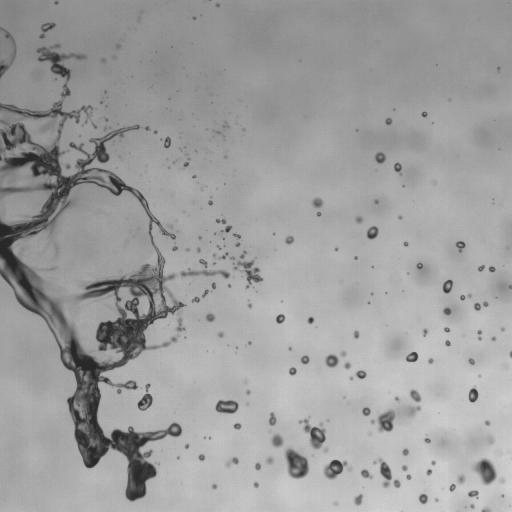droplet: (284, 445, 312, 479), (471, 457, 505, 485), (298, 416, 326, 449), (323, 459, 353, 479), (370, 409, 395, 432), (214, 399, 238, 414), (268, 429, 284, 448), (324, 354, 339, 367), (406, 404, 421, 417), (408, 388, 421, 402), (468, 385, 478, 403), (224, 456, 239, 468), (366, 225, 378, 239), (442, 279, 453, 293), (405, 351, 418, 362), (360, 468, 373, 479), (268, 411, 277, 426), (374, 152, 386, 163), (311, 197, 323, 208), (393, 162, 402, 176), (41, 36, 52, 47), (40, 100, 51, 111), (91, 110, 102, 121), (69, 149, 80, 160), (383, 157, 394, 168), (30, 204, 41, 215), (209, 206, 220, 217), (3, 214, 14, 225), (220, 259, 231, 270), (235, 269, 246, 280), (200, 275, 211, 286), (450, 284, 461, 295), (184, 301, 195, 312), (441, 315, 452, 326), (309, 354, 320, 365), (132, 388, 143, 399), (95, 413, 106, 424), (64, 420, 75, 431), (271, 423, 282, 434), (275, 446, 286, 457), (299, 446, 310, 457), (106, 447, 117, 458), (72, 452, 83, 463), (117, 454, 128, 465), (491, 460, 502, 471), (369, 464, 380, 475), (390, 467, 401, 478), (118, 470, 129, 481), (471, 472, 482, 483), (144, 477, 155, 488), (457, 483, 468, 494), (473, 497, 484, 508), (353, 493, 363, 505), (418, 492, 428, 504), (455, 241, 465, 252), (275, 313, 285, 324), (467, 490, 479, 499), (205, 312, 215, 322), (361, 406, 371, 416), (456, 473, 465, 484), (163, 136, 171, 148), (300, 354, 309, 364), (486, 435, 495, 445), (417, 503, 428, 511), (285, 235, 294, 244), (288, 366, 297, 375), (265, 455, 274, 464), (30, 102, 39, 111), (65, 117, 74, 126), (95, 129, 104, 138), (57, 141, 66, 150), (86, 143, 95, 152), (57, 155, 66, 164), (90, 158, 99, 167), (61, 168, 70, 177), (4, 192, 13, 201), (360, 222, 369, 231), (198, 239, 207, 248), (232, 247, 241, 256), (161, 249, 170, 258), (213, 273, 222, 282), (464, 298, 473, 307), (294, 361, 303, 370), (348, 365, 357, 374), (136, 378, 145, 387), (369, 410, 378, 419), (102, 428, 111, 437), (473, 453, 482, 462), (98, 455, 107, 464), (400, 455, 409, 464), (279, 458, 288, 467), (252, 470, 261, 479), (222, 120, 230, 130), (495, 448, 504, 456), (352, 505, 363, 511), (355, 216, 363, 224), (473, 302, 481, 310), (443, 307, 451, 315), (343, 361, 351, 369), (352, 330, 359, 339), (232, 233, 242, 239), (385, 117, 392, 125), (416, 262, 423, 270), (477, 264, 485, 271), (307, 316, 314, 324), (217, 331, 225, 338), (233, 422, 241, 429), (254, 462, 261, 470), (449, 483, 456, 491), (103, 125, 112, 131), (246, 299, 252, 308), (422, 328, 428, 337), (424, 434, 430, 443), (166, 223, 173, 230), (443, 326, 450, 333), (340, 350, 347, 357), (468, 358, 475, 365), (402, 448, 409, 455), (198, 454, 205, 461), (55, 47, 62, 54), (45, 59, 52, 66), (2, 69, 9, 76), (54, 94, 61, 101), (16, 102, 23, 109), (73, 103, 80, 110), (61, 105, 68, 112), (387, 111, 394, 118), (79, 112, 86, 119), (97, 120, 104, 127), (138, 120, 145, 127), (222, 128, 229, 135), (103, 140, 110, 147), (185, 146, 192, 153), (69, 159, 76, 166), (97, 161, 104, 168), (10, 191, 17, 198), (314, 191, 321, 198), (148, 205, 155, 212), (193, 239, 200, 246), (198, 251, 205, 258), (194, 252, 201, 259), (243, 255, 250, 262), (205, 256, 212, 263), (196, 263, 203, 270), (206, 264, 213, 271), (161, 269, 168, 276), (257, 270, 264, 277), (197, 273, 204, 280), (174, 274, 181, 281), (184, 274, 191, 281), (206, 275, 213, 282), (162, 280, 169, 287), (199, 313, 206, 320), (494, 330, 501, 337), (443, 332, 450, 339), (220, 336, 227, 343), (140, 349, 147, 356), (332, 349, 339, 356), (337, 357, 344, 364), (126, 358, 133, 365), (319, 359, 326, 366), (67, 370, 74, 377), (99, 370, 106, 377), (70, 381, 77, 388), (97, 381, 104, 388), (147, 387, 154, 394), (416, 387, 423, 394), (409, 399, 416, 406), (379, 406, 386, 413), (221, 411, 228, 418), (391, 418, 398, 425), (308, 420, 315, 427), (373, 421, 380, 428), (161, 422, 168, 429), (120, 425, 127, 432), (133, 426, 140, 433), (265, 433, 272, 440), (70, 439, 77, 446), (265, 439, 272, 446), (493, 439, 500, 446), (138, 445, 145, 452), (315, 447, 322, 454), (145, 456, 152, 463), (259, 459, 266, 466), (306, 459, 313, 466), (154, 465, 161, 472), (378, 475, 385, 482), (297, 476, 304, 483), (399, 477, 406, 484), (490, 479, 497, 486), (454, 483, 461, 490), (426, 495, 433, 502), (347, 496, 354, 503), (134, 497, 141, 504), (191, 296, 199, 302), (323, 445, 329, 453), (506, 475, 511, 484), (171, 245, 178, 251), (488, 266, 495, 272), (482, 301, 489, 307), (445, 339, 451, 346), (502, 363, 508, 370), (426, 469, 433, 475), (406, 473, 412, 480), (253, 481, 259, 488), (100, 57, 106, 63), (421, 111, 427, 117), (111, 199, 117, 205), (427, 358, 433, 364), (245, 389, 251, 395), (394, 396, 400, 402), (401, 465, 407, 471), (211, 483, 217, 489), (0, 109, 4, 118), (142, 126, 150, 130), (116, 43, 121, 49), (216, 244, 221, 250), (196, 247, 201, 253), (242, 378, 247, 384), (484, 420, 490, 425), (184, 443, 189, 449), (430, 460, 436, 465), (332, 501, 338, 506), (470, 503, 474, 510), (507, 357, 511, 364), (465, 507, 472, 511), (473, 507, 480, 511), (374, 199, 379, 204), (316, 211, 321, 216), (403, 241, 408, 246), (500, 326, 505, 331), (491, 336, 496, 341), (367, 431, 372, 436), (434, 497, 439, 502), (48, 18, 53, 23), (47, 28, 52, 33), (8, 29, 13, 34), (37, 29, 42, 34), (14, 38, 19, 43), (54, 38, 59, 43), (15, 48, 20, 53), (73, 49, 78, 54), (79, 58, 84, 63), (12, 59, 17, 64), (69, 70, 74, 75), (55, 73, 60, 78), (66, 83, 71, 88), (69, 89, 74, 94), (64, 95, 69, 100), (1, 99, 6, 104), (70, 117, 75, 122), (227, 120, 232, 125), (128, 121, 133, 126), (390, 121, 395, 126), (114, 124, 119, 129), (149, 125, 154, 130), (217, 126, 222, 131), (60, 128, 65, 133), (104, 128, 109, 133), (131, 128, 136, 133), (147, 129, 152, 134), (216, 133, 221, 138), (114, 134, 119, 139), (74, 141, 79, 146), (81, 145, 86, 150), (70, 147, 75, 152), (376, 147, 381, 152), (382, 149, 387, 154), (178, 151, 183, 156), (81, 154, 86, 159), (108, 154, 113, 159), (166, 160, 171, 165), (372, 160, 377, 165), (178, 161, 183, 166), (376, 162, 381, 167), (170, 163, 175, 168), (389, 166, 394, 171), (393, 170, 398, 175), (124, 180, 129, 185), (374, 194, 379, 199), (378, 199, 383, 204), (314, 206, 319, 211), (355, 211, 360, 216), (159, 219, 164, 224), (351, 219, 356, 224), (225, 220, 230, 225), (369, 221, 374, 226), (151, 222, 156, 227), (221, 223, 226, 228), (165, 227, 170, 232), (228, 228, 233, 233), (222, 231, 227, 236), (362, 231, 367, 236), (376, 231, 381, 236), (292, 234, 297, 239), (280, 236, 285, 241), (233, 237, 238, 242), (371, 237, 376, 242), (290, 241, 295, 246), (283, 242, 288, 247), (453, 246, 458, 251), (191, 247, 196, 252), (160, 250, 165, 255), (218, 250, 223, 255), (234, 254, 239, 259), (476, 261, 481, 266), (250, 263, 255, 268), (483, 266, 488, 271), (183, 267, 188, 272), (225, 277, 230, 282), (243, 279, 248, 284), (438, 282, 443, 287), (206, 284, 211, 289), (438, 287, 443, 292), (449, 288, 454, 293), (470, 289, 475, 294), (462, 290, 467, 295), (196, 292, 201, 297), (443, 292, 448, 297), (367, 295, 372, 300), (176, 296, 181, 301), (12, 297, 17, 302), (199, 297, 204, 302), (486, 298, 491, 303), (441, 303, 446, 308), (448, 304, 453, 309), (479, 304, 484, 309), (19, 305, 24, 310), (469, 305, 474, 310), (473, 309, 478, 314), (27, 310, 32, 315), (211, 310, 216, 315), (32, 312, 37, 317), (442, 313, 447, 318), (303, 315, 308, 320), (271, 317, 276, 322), (206, 320, 211, 325), (281, 320, 286, 325), (311, 320, 316, 325), (422, 323, 427, 328), (504, 325, 509, 330), (218, 326, 223, 331), (418, 329, 423, 334), (179, 330, 184, 335), (223, 330, 228, 335), (47, 331, 52, 336), (358, 331, 363, 336), (349, 333, 354, 338), (176, 336, 181, 341), (218, 337, 223, 342), (352, 337, 357, 342), (494, 338, 499, 343), (440, 340, 445, 345), (169, 341, 174, 346), (160, 346, 165, 351), (343, 346, 348, 351), (153, 348, 158, 353), (406, 348, 411, 353), (55, 349, 60, 354), (324, 351, 329, 356), (416, 351, 421, 356), (504, 351, 509, 356), (298, 352, 303, 357), (307, 353, 312, 358), (426, 353, 431, 358), (416, 356, 421, 361), (473, 357, 478, 362), (432, 359, 437, 364), (57, 360, 62, 365), (302, 363, 307, 368), (358, 365, 363, 370), (113, 366, 118, 371), (328, 366, 333, 371), (292, 373, 297, 378), (129, 375, 134, 380), (353, 375, 358, 380), (121, 378, 126, 383), (244, 384, 249, 389), (112, 385, 117, 390), (412, 385, 417, 390), (120, 386, 125, 391), (465, 386, 470, 391), (475, 386, 480, 391), (68, 391, 73, 396), (463, 394, 468, 399), (222, 396, 227, 401), (231, 396, 236, 401), (464, 397, 469, 402), (151, 399, 156, 404), (212, 399, 217, 404), (63, 402, 68, 407), (362, 402, 367, 407), (357, 406, 362, 411), (235, 408, 240, 413), (415, 410, 420, 415), (226, 412, 231, 417), (273, 412, 278, 417), (265, 413, 270, 418), (299, 415, 304, 420), (489, 420, 494, 425), (299, 422, 304, 427), (480, 422, 485, 427), (267, 424, 272, 429), (180, 425, 185, 430), (150, 426, 155, 431), (234, 428, 239, 433), (382, 429, 387, 434), (180, 430, 185, 435), (323, 431, 328, 436), (305, 432, 310, 437), (165, 433, 170, 438), (175, 435, 180, 440), (156, 438, 161, 443), (321, 441, 326, 446), (424, 442, 429, 447), (403, 443, 408, 448), (490, 443, 495, 448), (407, 447, 412, 452), (199, 449, 204, 454), (397, 449, 402, 454), (231, 452, 236, 457), (330, 455, 335, 460), (372, 455, 377, 460), (203, 456, 208, 461), (237, 457, 242, 462), (338, 457, 343, 462), (195, 458, 200, 463), (325, 459, 330, 464), (346, 459, 351, 464), (230, 462, 235, 467), (80, 463, 85, 468), (428, 464, 433, 469), (250, 465, 255, 470), (341, 465, 346, 470), (358, 465, 363, 470), (422, 467, 427, 472), (402, 470, 407, 475), (457, 470, 462, 475), (429, 472, 434, 477), (335, 473, 340, 478), (357, 473, 362, 478), (363, 476, 368, 481), (388, 478, 393, 483), (213, 479, 218, 484), (452, 479, 457, 484), (257, 480, 262, 485), (207, 481, 212, 486), (444, 484, 449, 489), (471, 485, 476, 490), (251, 486, 256, 491), (467, 486, 472, 491), (418, 489, 423, 494), (424, 490, 429, 495), (353, 491, 358, 496), (415, 491, 420, 496), (477, 491, 482, 496), (470, 495, 475, 500), (360, 496, 365, 501), (124, 498, 129, 503), (415, 499, 420, 504), (198, 234, 202, 240), (235, 242, 241, 246), (334, 245, 338, 251), (0, 31, 3, 38), (0, 122, 3, 129), (0, 275, 3, 282), (215, 3, 220, 7), (240, 127, 245, 131), (192, 174, 197, 178), (432, 180, 436, 185), (397, 215, 402, 219), (288, 346, 292, 351), (497, 66, 500, 72), (54, 0, 58, 4), (112, 55, 116, 59), (153, 130, 157, 134), (227, 283, 231, 287), (477, 374, 481, 378), (245, 402, 249, 406), (325, 418, 329, 422), (310, 453, 314, 457), (185, 248, 190, 251), (508, 284, 511, 289), (508, 279, 511, 284), (192, 16, 196, 19), (167, 166, 171, 169), (174, 219, 177, 223), (343, 395, 346, 399), (176, 456, 180, 459), (500, 494, 504, 497), (215, 0, 220, 2), (54, 77, 57, 80), (448, 98, 451, 101), (105, 104, 108, 107), (78, 134, 81, 137), (194, 149, 197, 152), (402, 184, 405, 187), (182, 210, 185, 213), (272, 232, 275, 235), (354, 256, 357, 259), (371, 265, 374, 268), (370, 292, 373, 295), (280, 300, 283, 303), (367, 301, 370, 304), (235, 346, 238, 349), (52, 3, 55, 6), (55, 3, 58, 6), (219, 3, 222, 6), (215, 6, 218, 9), (193, 13, 196, 16), (190, 18, 193, 21), (43, 20, 46, 23), (494, 64, 497, 67), (499, 67, 502, 70), (494, 68, 497, 71), (106, 89, 109, 92), (100, 90, 103, 93), (105, 92, 108, 95), (98, 97, 101, 100), (101, 102, 104, 105), (84, 103, 87, 106), (90, 103, 93, 106), (92, 108, 95, 111), (421, 108, 424, 111), (104, 114, 107, 117), (419, 115, 422, 118), (422, 116, 425, 119), (101, 117, 104, 120), (107, 118, 110, 121), (87, 120, 90, 123), (383, 122, 386, 125), (83, 123, 86, 126), (431, 123, 434, 126), (386, 124, 389, 127), (90, 125, 93, 128), (138, 127, 141, 130), (155, 127, 158, 130), (208, 128, 211, 131), (239, 130, 242, 133), (211, 131, 214, 134), (110, 137, 113, 140), (162, 137, 165, 140), (170, 140, 173, 143), (168, 145, 171, 148), (180, 145, 183, 148), (162, 146, 165, 149), (196, 148, 199, 151), (187, 154, 190, 157), (172, 157, 175, 160), (393, 160, 396, 163), (398, 160, 401, 163), (188, 162, 191, 165), (190, 172, 193, 175), (195, 173, 198, 176), (192, 177, 195, 180), (220, 181, 223, 184), (400, 181, 403, 184), (398, 184, 401, 187), (202, 186, 205, 189), (401, 187, 404, 190), (141, 192, 144, 195), (208, 192, 211, 195), (490, 199, 493, 202), (371, 200, 374, 203), (147, 203, 150, 206), (205, 203, 208, 206), (211, 203, 214, 206), (374, 203, 377, 206), (320, 211, 323, 214), (400, 213, 403, 216), (315, 215, 318, 218), (318, 215, 321, 218), (212, 218, 215, 221), (396, 218, 399, 221), (400, 218, 403, 221), (270, 229, 273, 232), (236, 231, 239, 234), (174, 232, 177, 235), (195, 233, 198, 236), (199, 233, 202, 236), (274, 233, 277, 236), (162, 234, 165, 237), (270, 234, 273, 237), (240, 235, 243, 238), (195, 237, 198, 240), (200, 237, 203, 240), (152, 238, 155, 241), (237, 238, 240, 241), (460, 238, 463, 241), (463, 240, 466, 243), (213, 242, 216, 245), (400, 242, 403, 245), (407, 243, 410, 246), (185, 244, 188, 247), (219, 244, 222, 247), (403, 245, 406, 248), (199, 246, 202, 249), (331, 246, 334, 249), (215, 247, 218, 250), (461, 247, 464, 250), (245, 248, 248, 251), (337, 248, 340, 251), (174, 249, 177, 252), (184, 250, 187, 253), (333, 250, 336, 253), (354, 252, 357, 255), (351, 254, 354, 257), (225, 255, 228, 258), (357, 256, 360, 259), (203, 257, 206, 260), (164, 258, 167, 261), (212, 258, 215, 261), (220, 258, 223, 261), (353, 259, 356, 262), (415, 260, 418, 263), (420, 260, 423, 263), (369, 262, 372, 265), (491, 263, 494, 266), (373, 264, 376, 267), (369, 267, 372, 270), (415, 267, 418, 270), (420, 267, 423, 270), (475, 269, 478, 272), (490, 271, 493, 274), (448, 276, 451, 279), (443, 278, 446, 281), (451, 282, 454, 285), (214, 283, 217, 286), (230, 283, 233, 286), (505, 284, 508, 287), (227, 287, 230, 290), (212, 288, 215, 291), (384, 288, 387, 291), (201, 289, 204, 292), (371, 289, 374, 292), (381, 291, 384, 294), (205, 293, 208, 296), (372, 293, 375, 296), (384, 293, 387, 296), (191, 295, 194, 298), (457, 297, 460, 300), (364, 299, 367, 302), (369, 299, 372, 302), (181, 300, 184, 303), (248, 300, 251, 303), (193, 301, 196, 304), (479, 302, 482, 305), (251, 303, 254, 306), (368, 303, 371, 306), (246, 306, 249, 309), (275, 312, 278, 315), (283, 313, 286, 316), (276, 322, 279, 325), (446, 324, 449, 327), (184, 326, 187, 329), (355, 327, 358, 330), (449, 327, 452, 330), (497, 327, 500, 330), (474, 329, 477, 332), (444, 331, 447, 334), (425, 333, 428, 336), (479, 333, 482, 336), (489, 334, 492, 337), (185, 337, 188, 340), (52, 338, 55, 341), (249, 338, 252, 341), (476, 339, 479, 342), (244, 340, 247, 343), (449, 340, 452, 343), (491, 340, 494, 343), (251, 341, 254, 344), (237, 344, 240, 347), (246, 344, 249, 347), (285, 345, 288, 348), (446, 345, 449, 348), (291, 346, 294, 349), (232, 347, 235, 350), (412, 348, 415, 351), (304, 352, 307, 355), (308, 357, 311, 360), (409, 361, 412, 364), (467, 362, 470, 365), (428, 363, 431, 366), (471, 364, 474, 367), (295, 370, 298, 373), (480, 372, 483, 375), (287, 373, 290, 376), (362, 377, 365, 380), (348, 379, 351, 382), (144, 381, 147, 384), (130, 388, 133, 391), (249, 392, 252, 395), (117, 393, 120, 396), (394, 393, 397, 396), (397, 395, 400, 398), (345, 396, 348, 399), (391, 396, 394, 399), (393, 399, 396, 402), (474, 399, 477, 402), (470, 401, 473, 404), (146, 407, 149, 410), (485, 417, 488, 420), (295, 420, 298, 423), (230, 424, 233, 427), (484, 424, 487, 427), (240, 425, 243, 428), (200, 434, 203, 437), (210, 434, 213, 437), (426, 435, 429, 438), (205, 436, 208, 439), (210, 437, 213, 440), (188, 445, 191, 448), (182, 447, 185, 450), (400, 447, 403, 450), (176, 452, 179, 455), (195, 454, 198, 457), (173, 456, 176, 459), (178, 457, 181, 460), (432, 457, 435, 460), (428, 459, 431, 462), (434, 462, 437, 465), (410, 474, 413, 477), (407, 479, 410, 482), (250, 482, 253, 485), (448, 482, 451, 485), (216, 484, 219, 487), (212, 488, 215, 491), (452, 489, 455, 492), (499, 491, 502, 494), (503, 492, 506, 495), (437, 496, 440, 499), (499, 496, 502, 499), (435, 501, 438, 504), (467, 506, 470, 509), (223, 243, 225, 247), (104, 90, 106, 93), (393, 108, 395, 111), (205, 128, 208, 130), (355, 129, 358, 131), (159, 138, 162, 140), (176, 230, 179, 232), (407, 271, 409, 274), (509, 288, 511, 291), (115, 166, 117, 168), (492, 202, 494, 204), (252, 286, 254, 288), (255, 290, 257, 292), (385, 292, 387, 294), (184, 336, 186, 338), (52, 0, 55, 1), (106, 96, 107, 98), (224, 182, 225, 184), (209, 241, 211, 242), (495, 297, 497, 298), (315, 326, 317, 327), (405, 332, 407, 333), (227, 344, 228, 346), (362, 486, 364, 487), (169, 98, 170, 99), (216, 188, 217, 189)
ligament: (372, 456, 401, 488), (137, 383, 153, 411), (93, 208, 117, 223), (38, 22, 55, 38), (179, 146, 190, 170), (201, 282, 215, 298), (349, 370, 366, 380), (212, 130, 225, 141), (459, 293, 472, 301), (481, 505, 493, 511), (123, 237, 129, 248), (477, 329, 482, 340), (101, 116, 108, 122), (172, 158, 179, 164), (200, 185, 207, 191), (245, 341, 251, 346), (203, 436, 211, 439), (224, 151, 227, 158), (99, 99, 103, 104), (118, 155, 122, 160), (509, 350, 511, 358), (67, 223, 69, 225), (212, 351, 214, 353), (455, 510, 459, 511), (208, 0, 211, 1), (400, 510, 403, 511)
